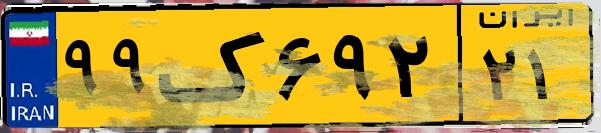1: (525, 38, 570, 115)
2: (385, 28, 445, 110), (475, 38, 525, 113)
6: (270, 28, 330, 110)
9: (330, 28, 385, 110), (57, 26, 110, 100), (110, 28, 158, 98)
ک: (158, 12, 270, 120)
